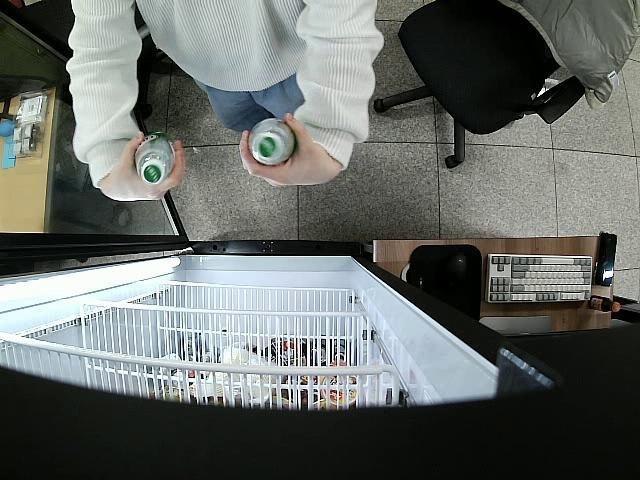18_trevi: (247, 117, 296, 166), (132, 132, 174, 185)
